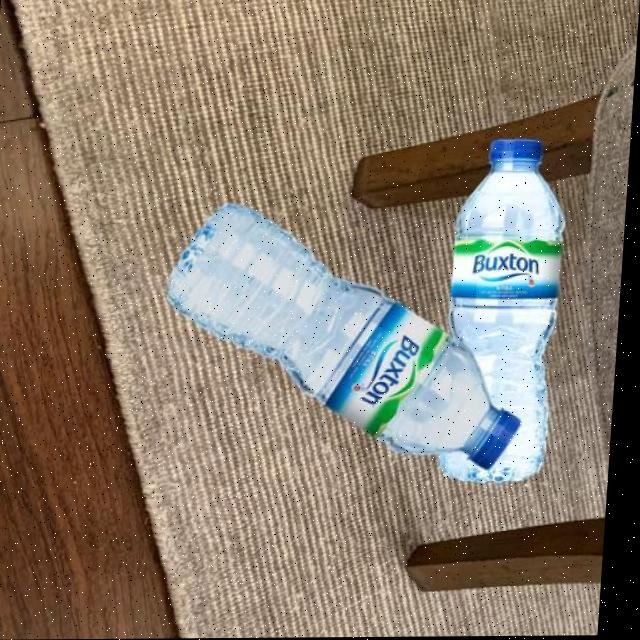bottle: (160, 199, 540, 474), (439, 137, 576, 485)
